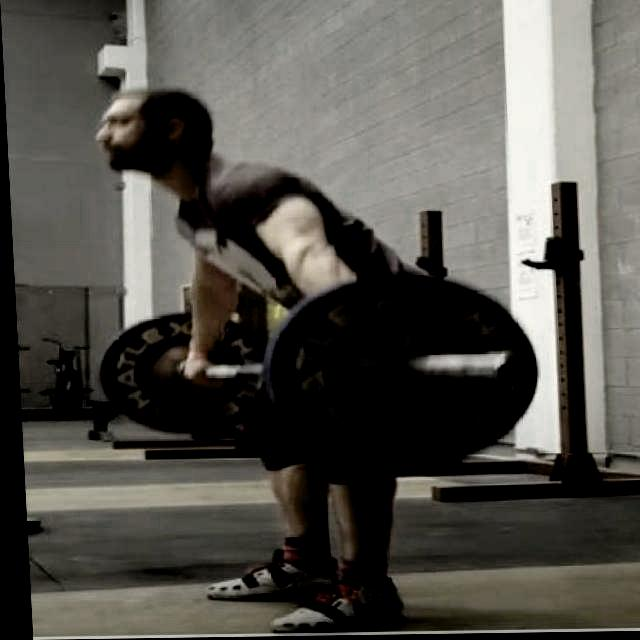barbell: (252, 268, 545, 480)
